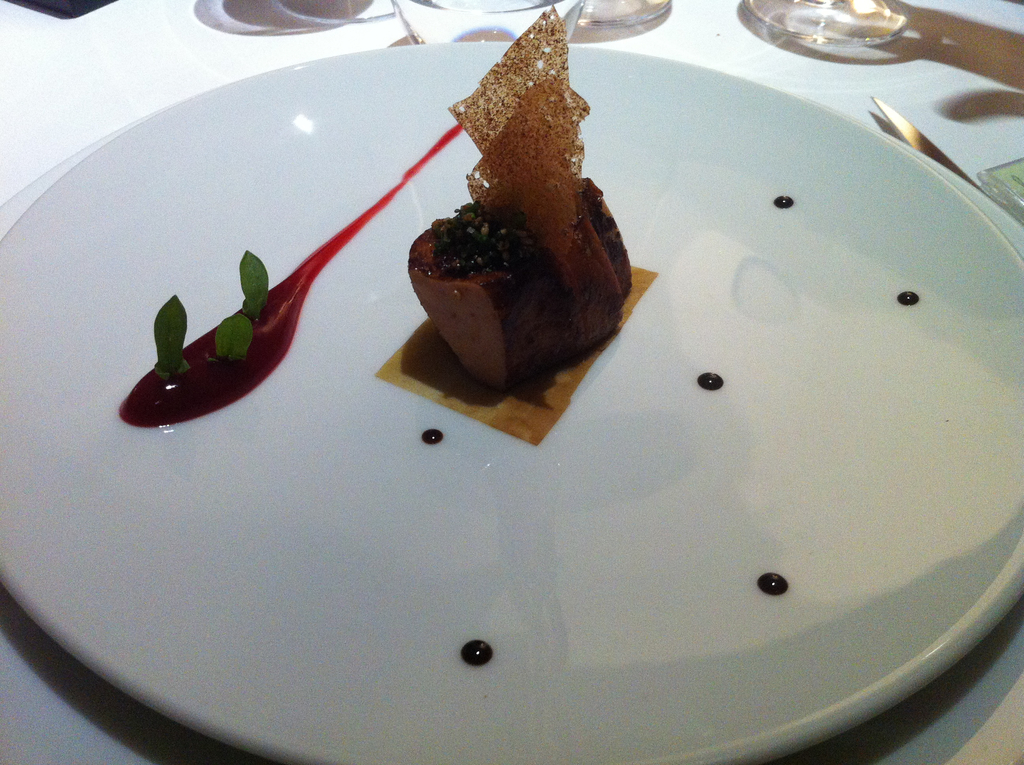plate: (0, 40, 1023, 764)
